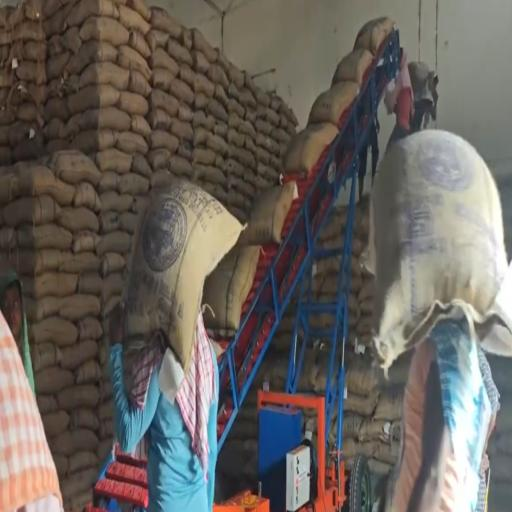Rice-bag-10: (369, 130, 508, 367), (123, 179, 244, 372), (203, 245, 261, 330), (239, 181, 298, 245), (0, 162, 74, 205), (284, 123, 338, 176), (308, 81, 360, 125), (65, 106, 131, 135), (1, 195, 60, 227), (48, 150, 101, 185), (68, 40, 118, 74), (353, 16, 394, 55), (331, 49, 373, 86), (11, 224, 73, 249), (79, 16, 130, 46), (67, 85, 119, 114), (77, 62, 130, 90), (57, 294, 100, 322), (150, 7, 183, 40), (92, 148, 133, 174), (70, 130, 116, 153), (118, 45, 150, 78), (56, 208, 99, 232), (118, 7, 150, 35), (115, 91, 149, 117), (72, 182, 101, 212), (192, 29, 217, 63), (150, 47, 179, 76), (149, 89, 179, 117), (115, 131, 148, 156), (58, 252, 99, 272), (193, 164, 227, 188), (148, 130, 179, 154), (166, 38, 192, 65), (228, 146, 256, 170), (169, 78, 194, 104), (72, 230, 100, 253), (77, 272, 103, 296), (206, 64, 229, 91), (228, 175, 255, 198), (128, 70, 150, 97), (147, 108, 174, 130), (129, 30, 150, 58), (150, 67, 174, 91), (169, 119, 193, 143), (147, 148, 173, 170), (193, 73, 215, 98), (131, 153, 152, 178), (146, 29, 169, 51), (206, 99, 228, 122), (127, 0, 150, 21), (206, 133, 227, 154), (130, 115, 150, 137), (169, 156, 192, 175), (227, 63, 244, 88), (192, 111, 214, 130), (192, 147, 216, 164), (192, 50, 209, 72), (227, 99, 245, 119), (227, 128, 245, 147), (176, 103, 193, 123), (216, 48, 230, 72), (239, 120, 256, 139), (214, 84, 228, 107), (179, 66, 195, 86), (226, 159, 244, 176), (255, 175, 275, 190), (178, 141, 192, 161), (194, 127, 208, 146), (194, 93, 210, 109), (181, 27, 192, 49), (228, 82, 240, 100), (243, 168, 256, 184), (215, 154, 227, 171), (214, 122, 227, 136), (228, 113, 240, 128)
c-belt: (213, 30, 399, 511), (85, 451, 148, 511)
other: (169, 0, 512, 174)
